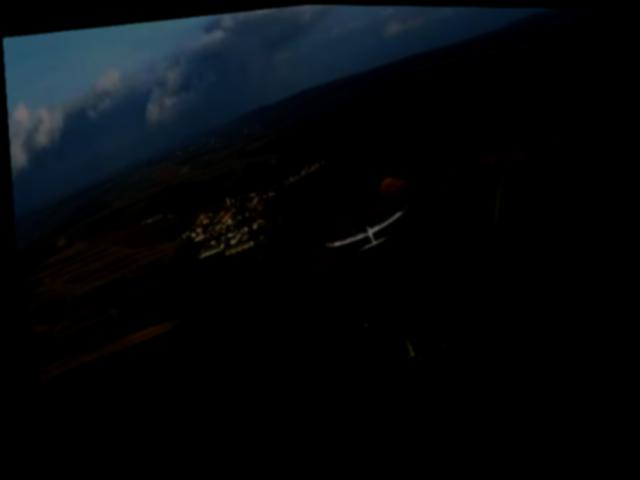iha: (312, 201, 419, 262)
